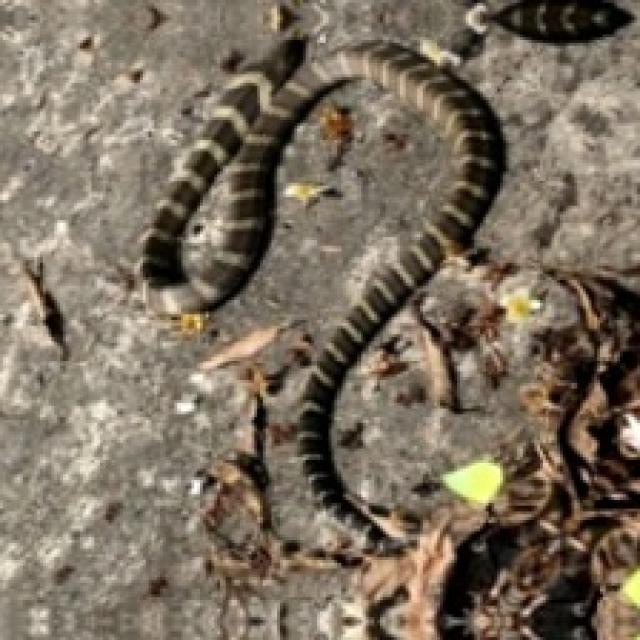king cobra: (140, 37, 503, 543), (457, 274, 637, 557), (471, 0, 631, 43)
